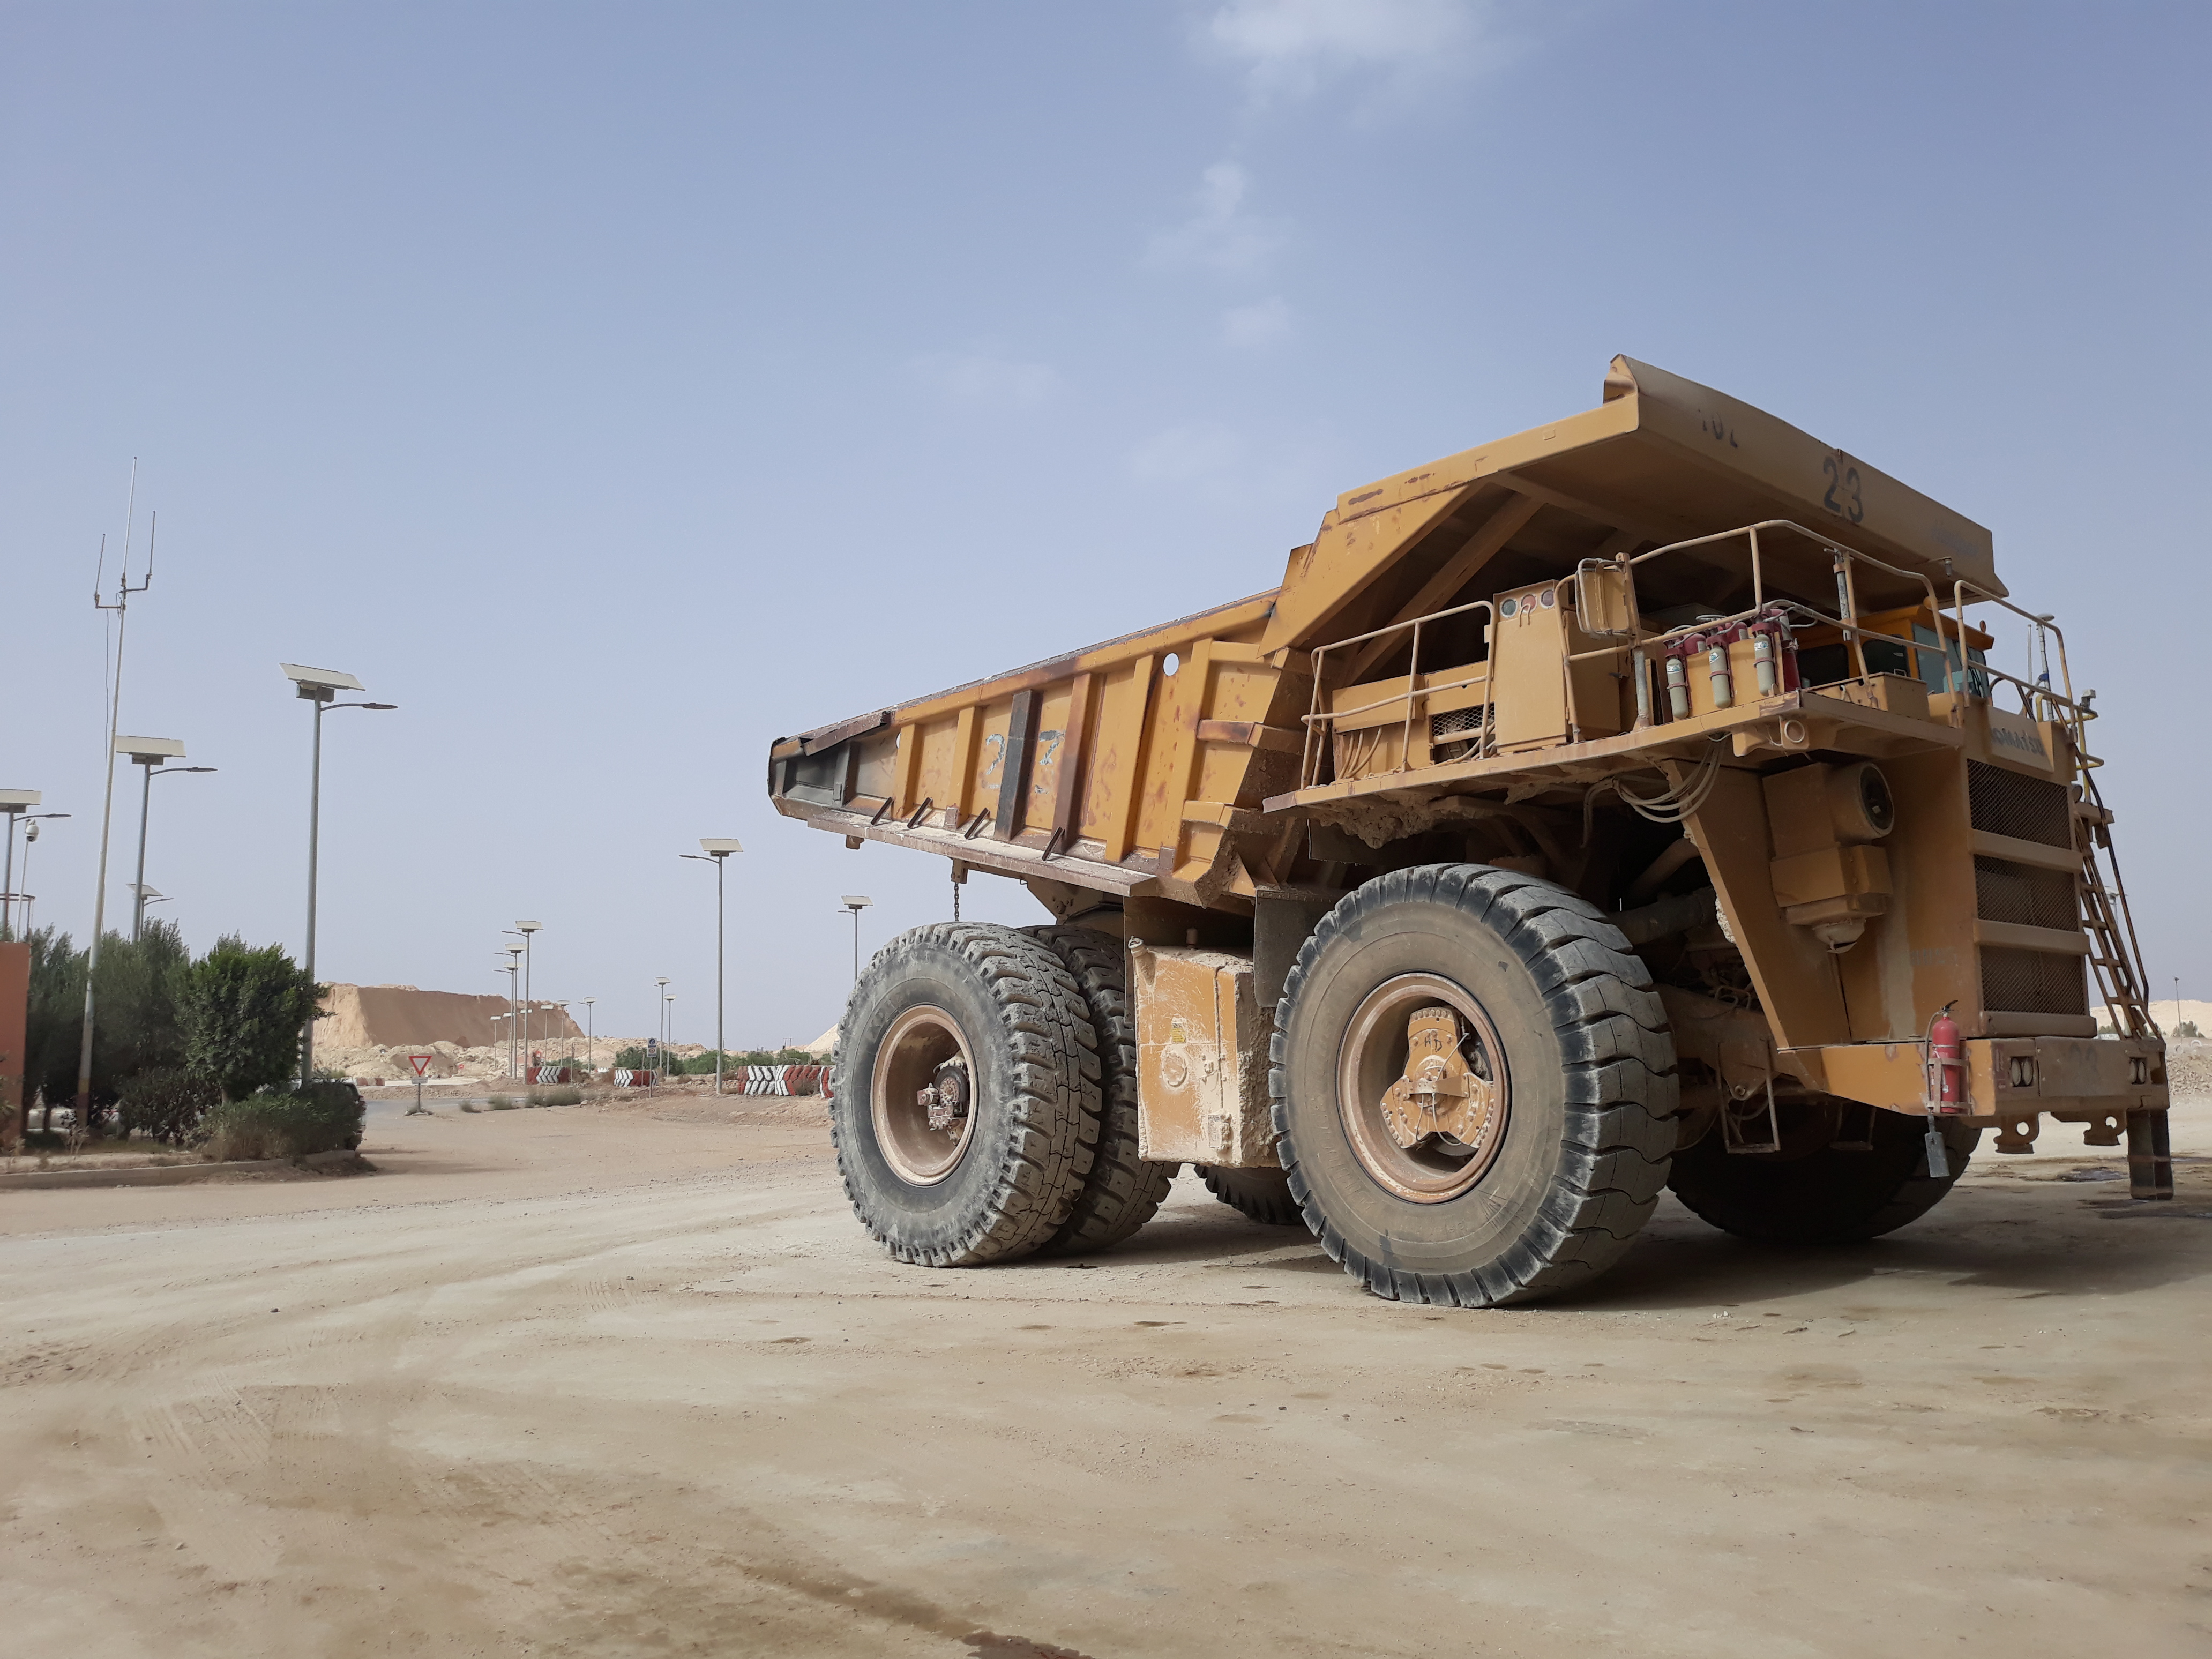camion: (759, 335, 2212, 1342)
